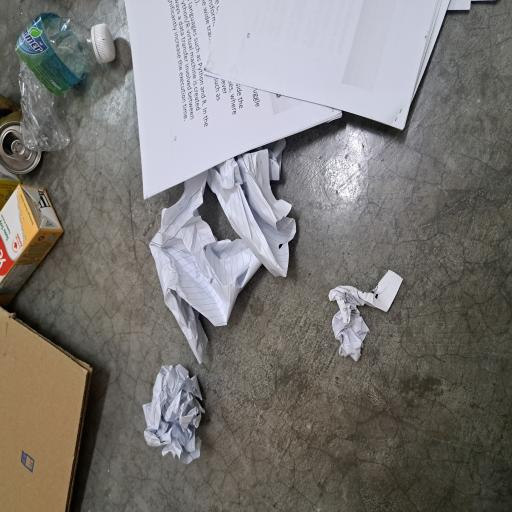can: (252, 0, 313, 54)
cardboard: (0, 0, 155, 129)
drink carton: (157, 0, 248, 85)
paper: (234, 167, 384, 460), (286, 269, 384, 512), (112, 199, 256, 348), (176, 275, 281, 395), (36, 190, 112, 274), (112, 436, 181, 512)
plastic bottle: (270, 20, 376, 128)
plastic bottle cap: (336, 126, 367, 154)
pop tab: (262, 14, 279, 44)
